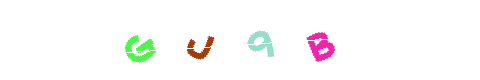9: (200, 0, 280, 80)
B: (277, 0, 357, 80)
G: (99, 0, 179, 80)
J: (160, 0, 240, 80)
